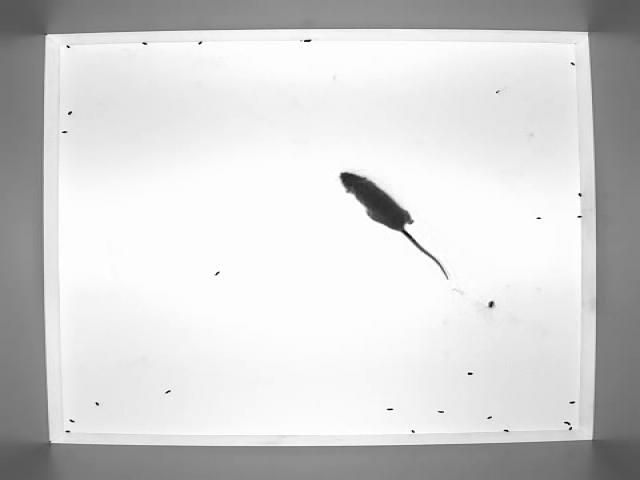Tikus: (338, 171, 450, 281)
